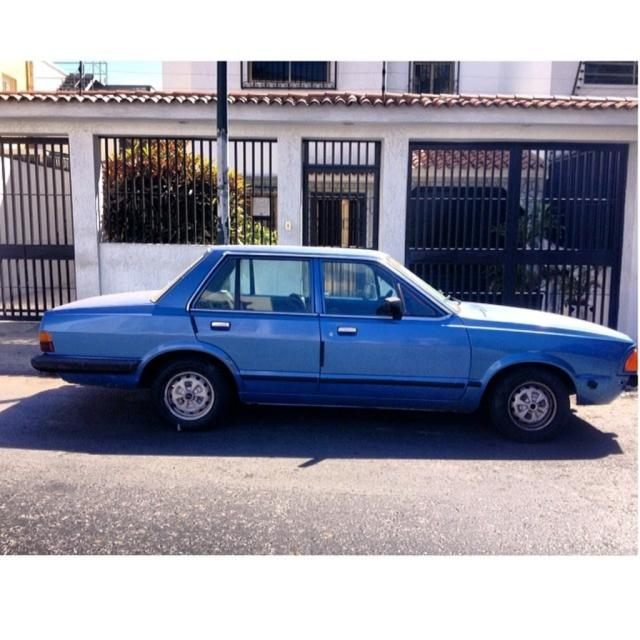car: (32, 241, 638, 432)
